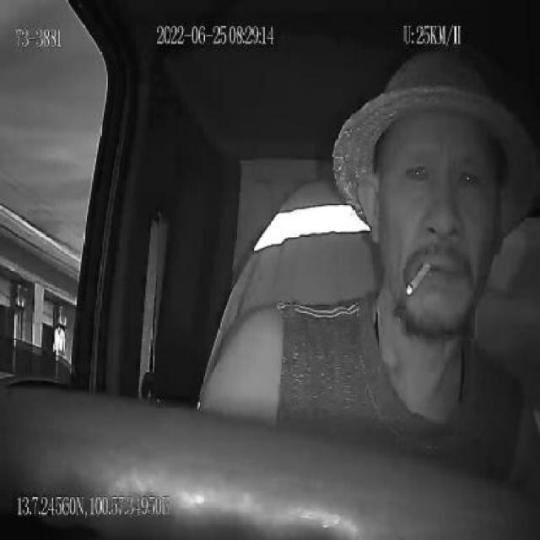smoking: (406, 260, 431, 298)
